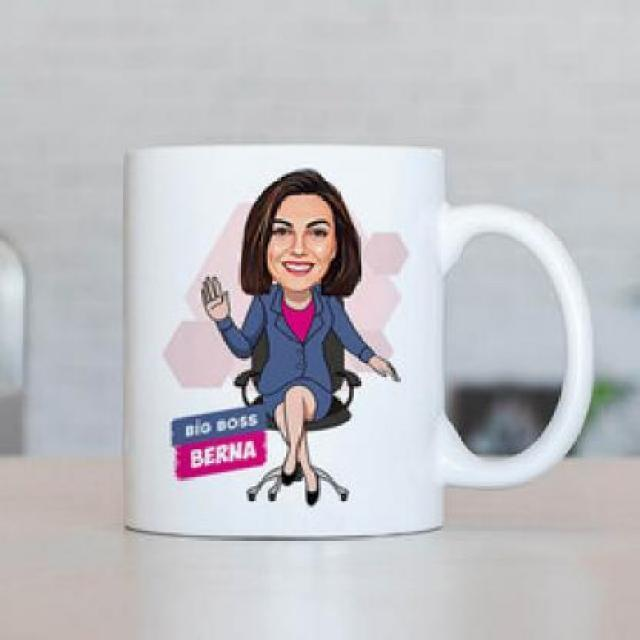taza: (100, 132, 604, 562)
